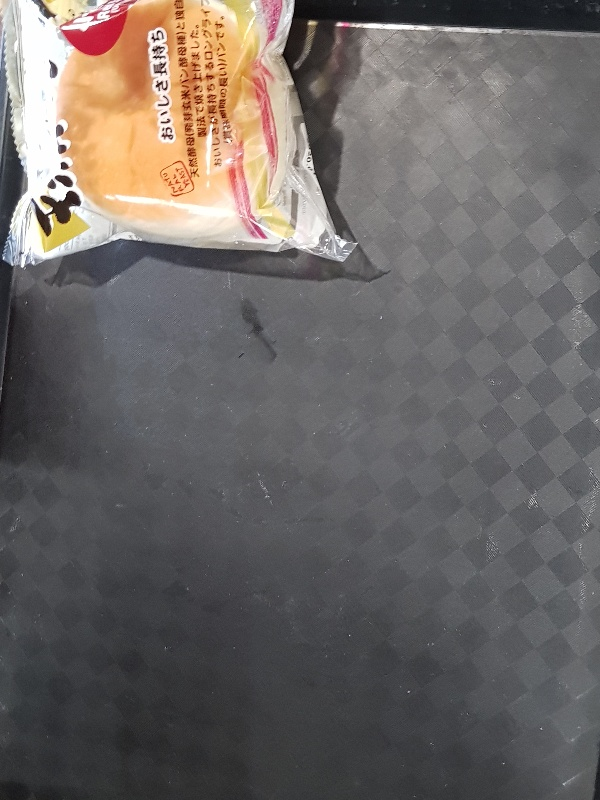Dayplus Red Bean: (1, 1, 356, 268)
